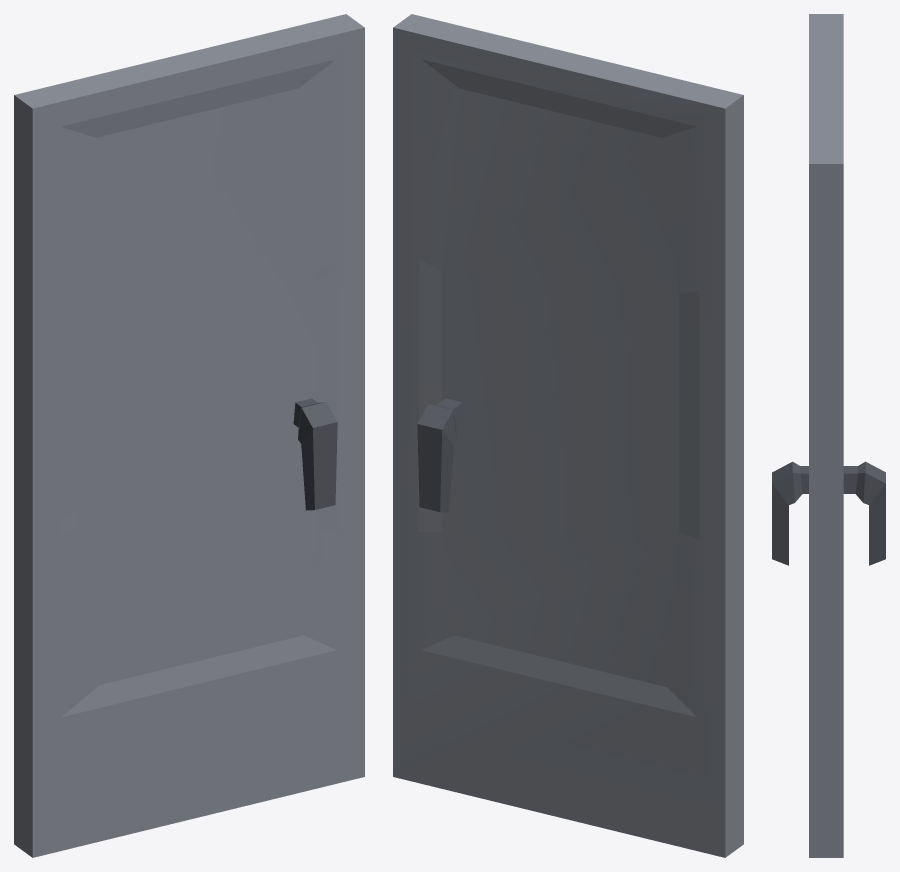
Rendered from SM_Bld_Shop_02_Door_Rear.obj.
The picture shows the model from 3 angles, left to right: view 1: azimuth 30°, elevation 25°; view 2: azimuth 150°, elevation 25°; view 3: azimuth 270°, elevation 25°; orthographic projection. The views are drawn at different scales.
Parts seen in each view (by area): view 1: SM_Bld_Shop_02_Door_Rear_0; view 2: SM_Bld_Shop_02_Door_Rear_0; view 3: SM_Bld_Shop_02_Door_Rear_0.
Part boxes in pixels (x1,y1,x2,y2): SM_Bld_Shop_02_Door_Rear_0: (14, 14, 364, 857); SM_Bld_Shop_02_Door_Rear_0: (393, 14, 743, 857); SM_Bld_Shop_02_Door_Rear_0: (772, 14, 885, 857).
Bounding box in the file's own units: 1.03 × 2.22 × 0.331.
1 material, 1 textured.
